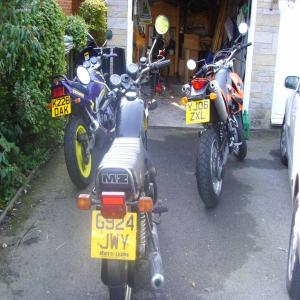Vehicle-registration-plate: (92, 211, 137, 261), (187, 99, 211, 125), (52, 96, 72, 119)
